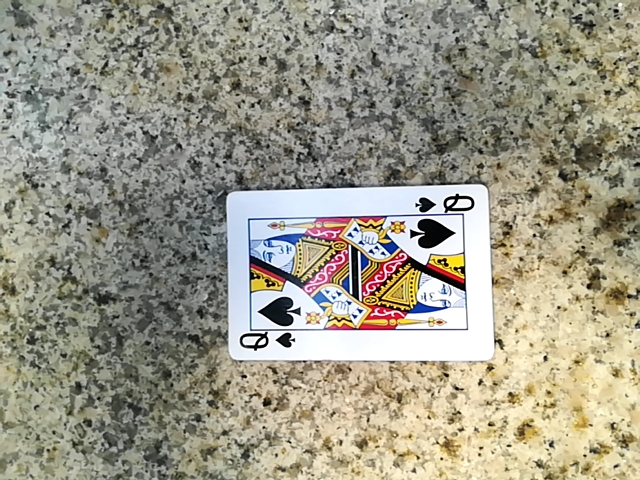ht q: (222, 182, 490, 367)
